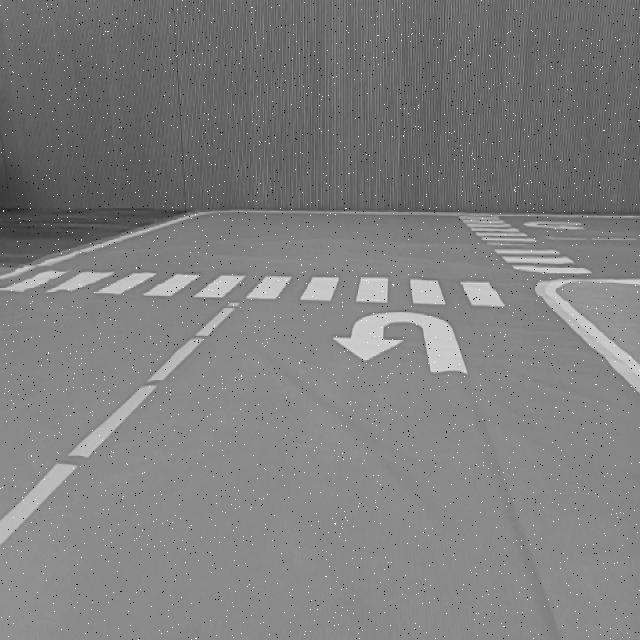left_lane: (0, 301, 239, 552)
right_lane: (536, 288, 640, 390)
